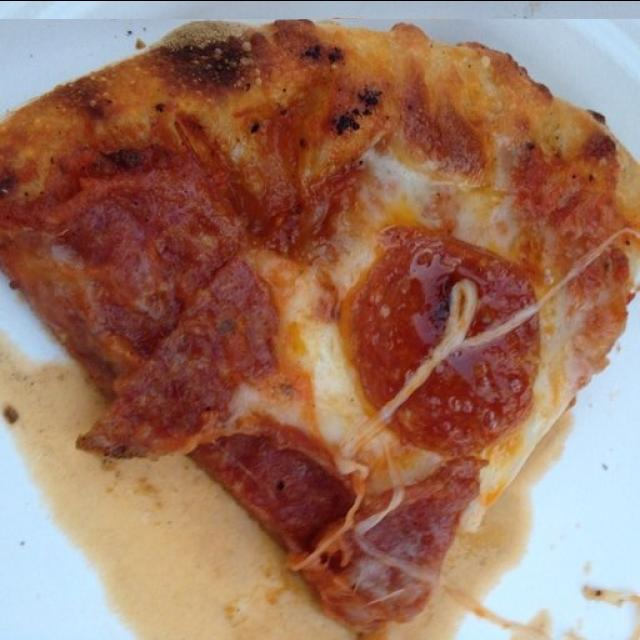pepperoni: (98, 236, 288, 456), (359, 259, 563, 460), (153, 457, 289, 622), (284, 428, 436, 546)
pizza: (0, 18, 640, 640)
